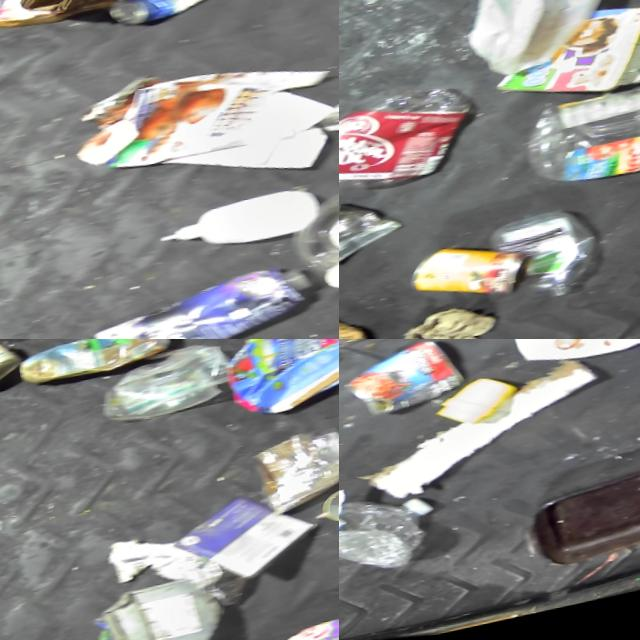can: (402, 232, 537, 320), (339, 339, 466, 427), (100, 0, 258, 39), (339, 190, 407, 276), (0, 339, 27, 401), (313, 488, 339, 538), (316, 95, 339, 145)
milk_jug: (454, 0, 636, 90)
plastic_bottle: (339, 488, 443, 599)
